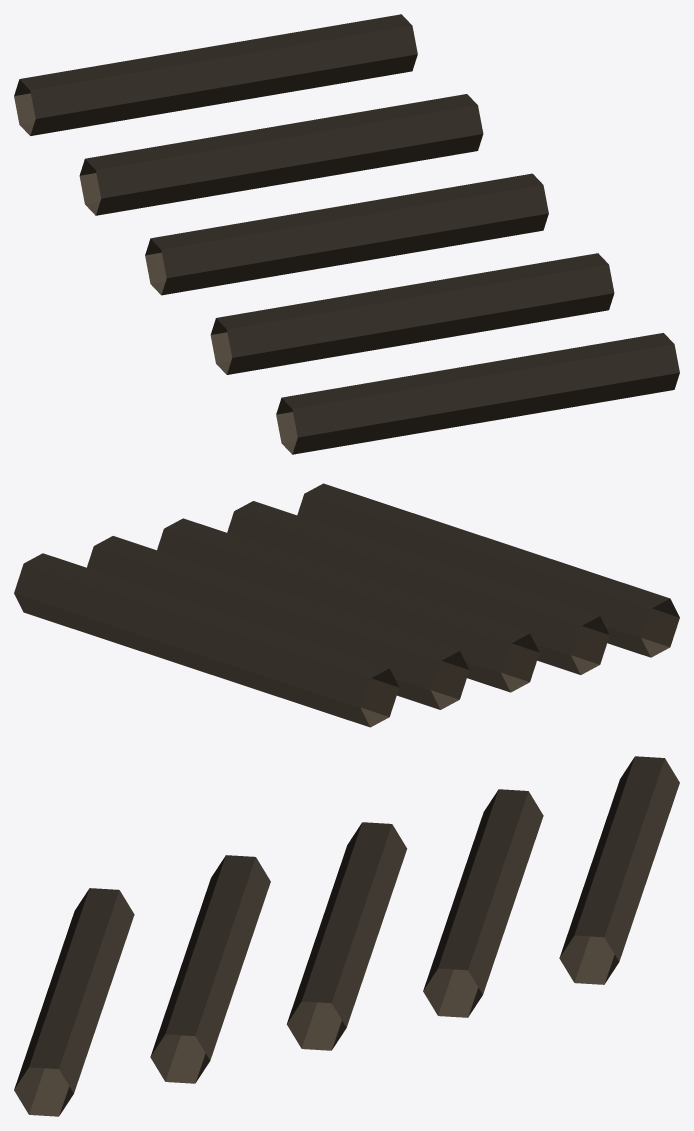
3 views of the same model, one above another, from view 1: azimuth 30°, elevation 25°; view 2: azimuth 150°, elevation 25°; view 3: azimuth 270°, elevation 25° (orthographic). The views are drawn at different scales.
Visible parts, largest first — view 1: 4ff83e716184c976be4b944d540e3959a4b3e3cf7698025d9f44a230f81c; view 2: 4ff83e716184c976be4b944d540e3959a4b3e3cf7698025d9f44a230f81c; view 3: 4ff83e716184c976be4b944d540e3959a4b3e3cf7698025d9f44a230f81c.
Boxes of the visible parts, x1=… form: 4ff83e716184c976be4b944d540e3959a4b3e3cf7698025d9f44a230f81c: x1=14, y1=14, x2=679, y2=454; 4ff83e716184c976be4b944d540e3959a4b3e3cf7698025d9f44a230f81c: x1=14, y1=483, x2=679, y2=727; 4ff83e716184c976be4b944d540e3959a4b3e3cf7698025d9f44a230f81c: x1=14, y1=756, x2=679, y2=1116.
Size of the model in its own units: 1.43 by 0.6532 by 2.2.
